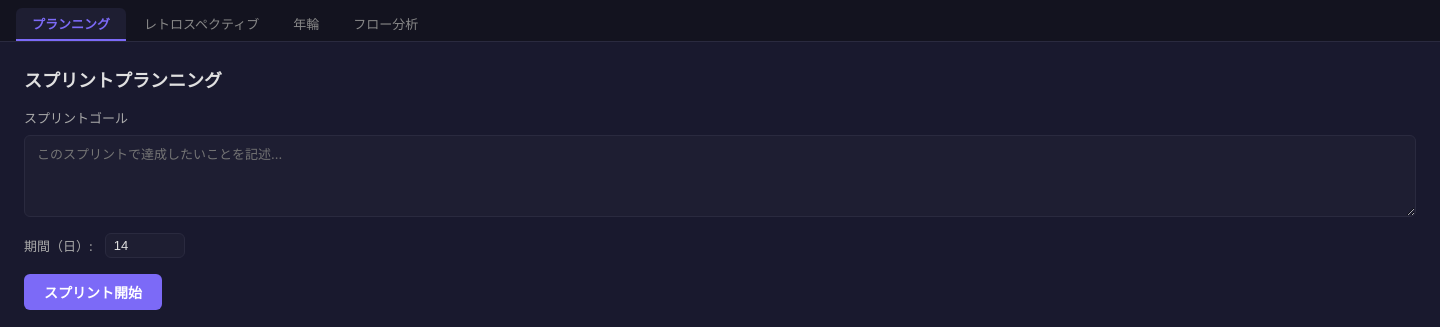
Test case: SprintScreen › 年輪 タブ: loading=true で読み込み中表示
Click the button "年輪". click: [306, 24]
box: [277,8,335,41]
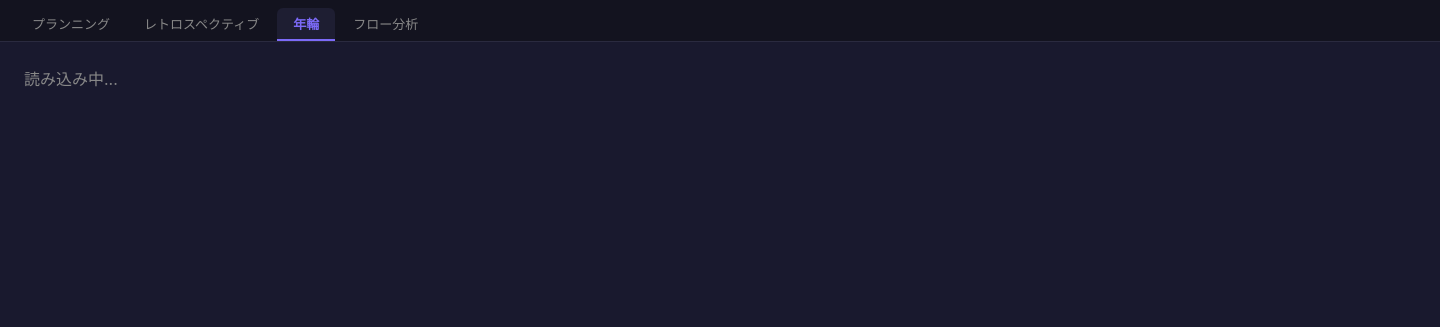
Expected: the text "読み込み中..." is shown, [24,69,118,89]
